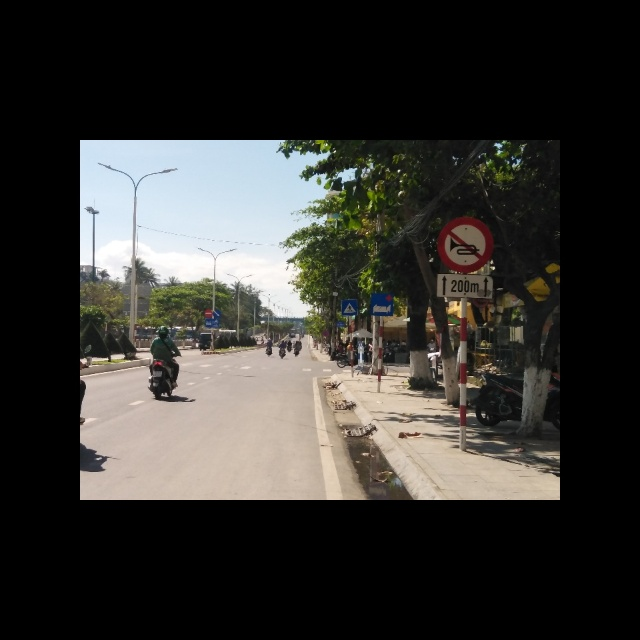Bệnh viện: (371, 293, 393, 317)
Cấm bấm còi: (439, 217, 495, 274)
Đường dành cho người đi bộ: (341, 299, 358, 316)
